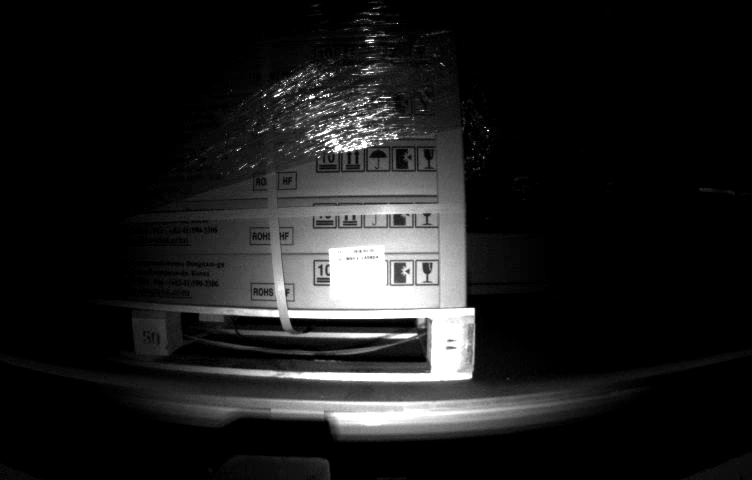True Barcode: (328, 246, 387, 301)
